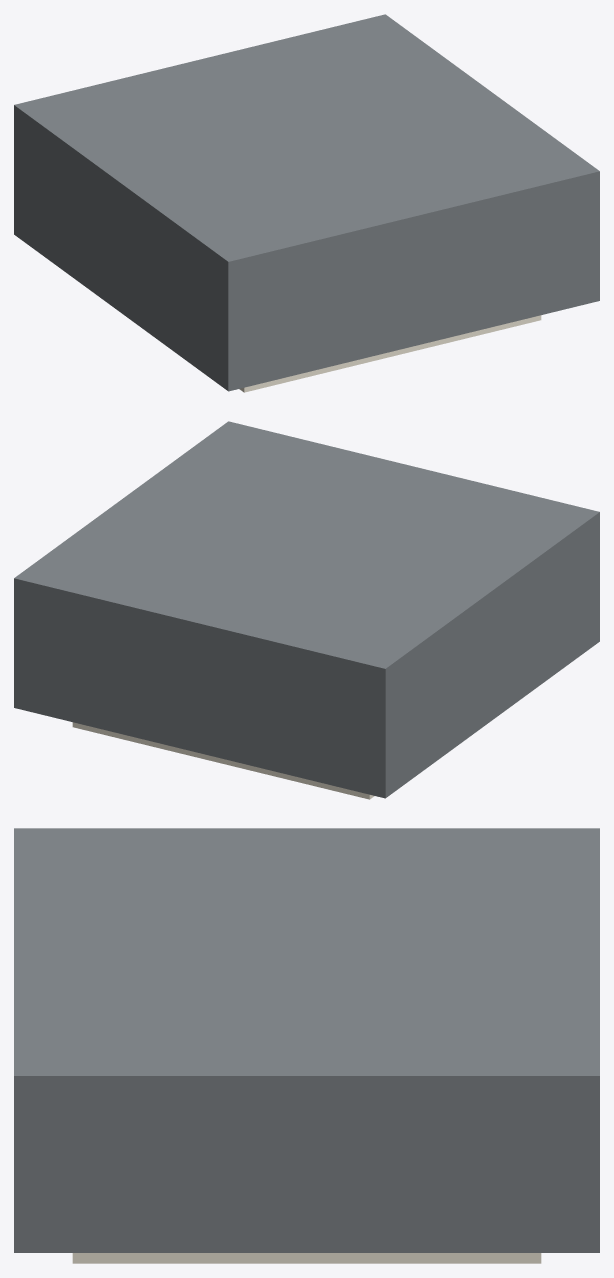
File: fixture-example-work-room-luminaire-1-84663b66.glb
The picture shows the model from 3 angles, top to bottom: view 1: azimuth 30°, elevation 25°; view 2: azimuth 150°, elevation 25°; view 3: azimuth 270°, elevation 25°; orthographic projection. The views are drawn at different scales.
Size of the model in its own units: 0.3 by 0.12 by 0.3.
